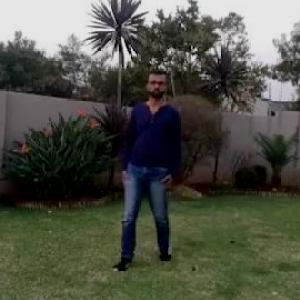follow: (126, 74, 176, 244)
